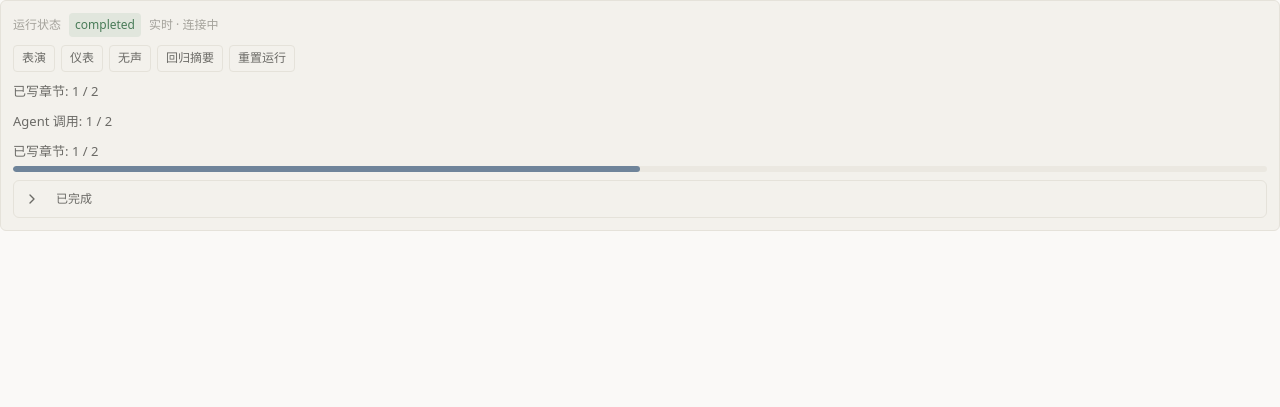
Scenario: BookRunPanel — 阶段4 干预工具栏 + 密度切换 + 摘要面板 + diff banner（#338 S4b） › 点 run-summary-toggle → book-summary-panel 出现（RED 期不 import BookSummaryPanel）
Click the button with test id "run-summary-toggle" at (190, 59), box [157,45,223,72]
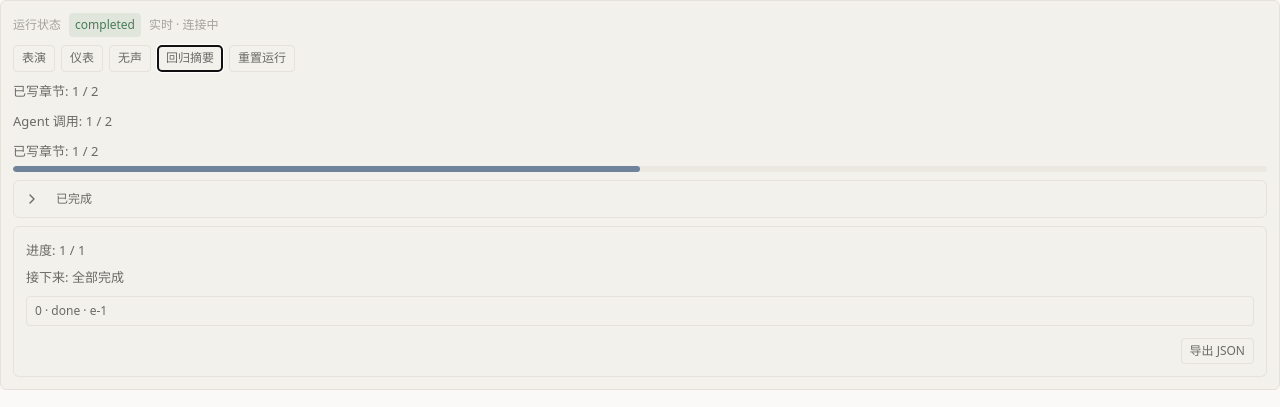
Check: the element with test id "book-summary-panel" is shown, box [13,226,1267,378]
